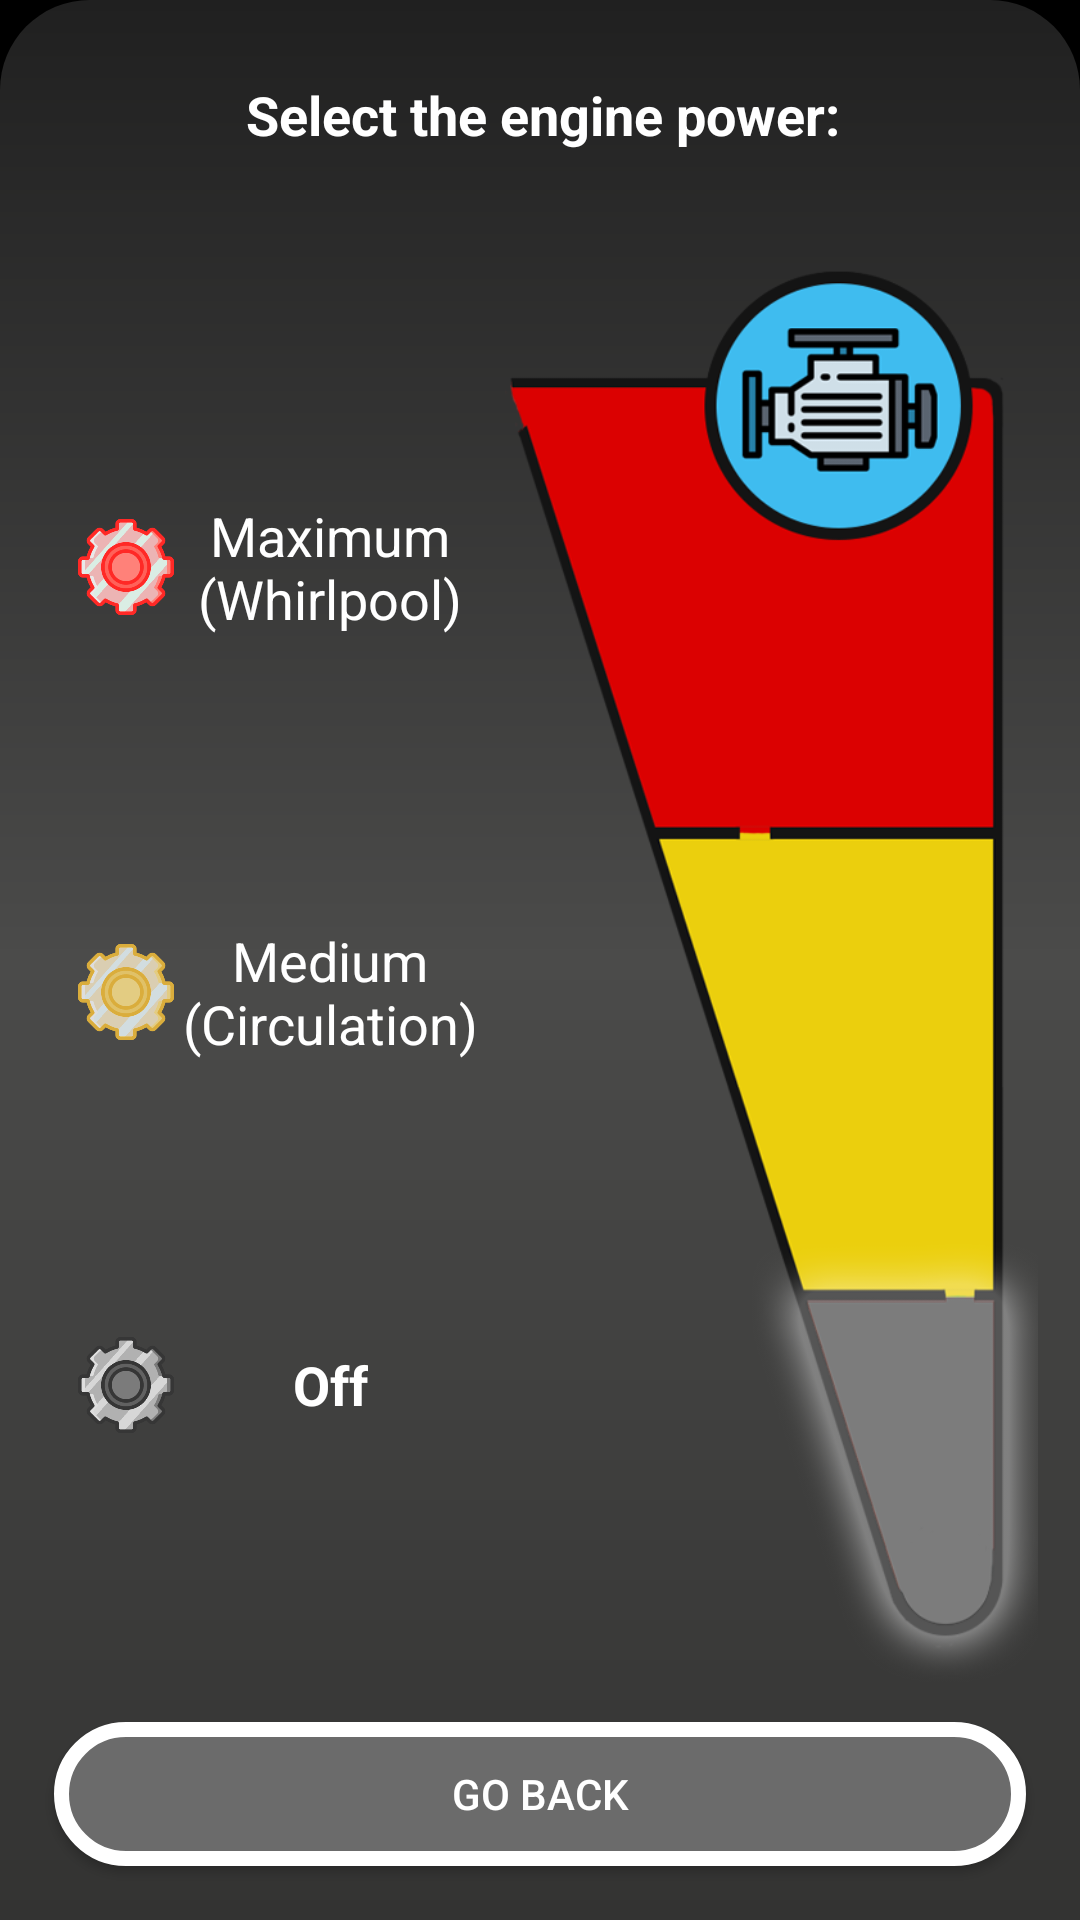

Point at icon controls on the screen. Image size 1080 x 1920, points as (x,y).
gear max: (126,567)
gear med: (126,992)
